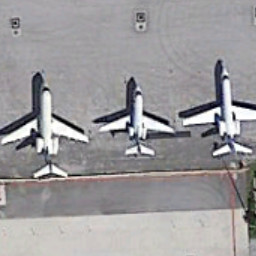Airplane: (1, 72, 94, 187), (176, 54, 256, 163), (94, 73, 180, 173)
